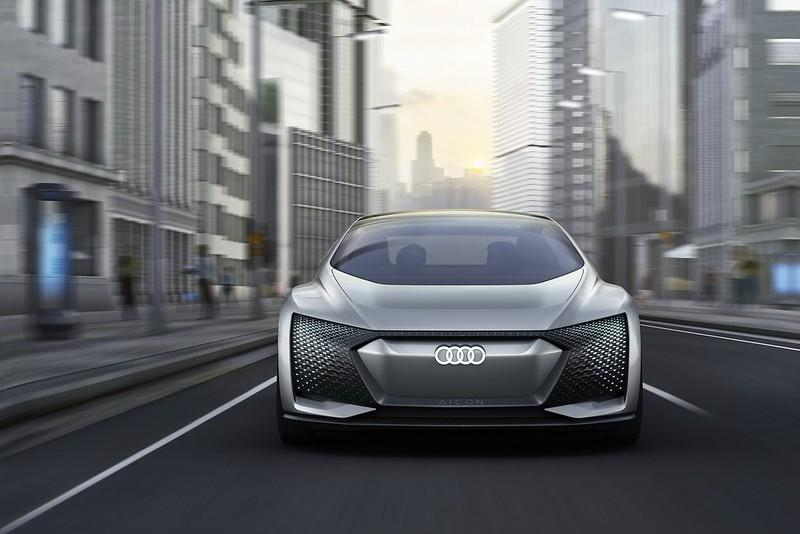windshield: (325, 216, 587, 284)
